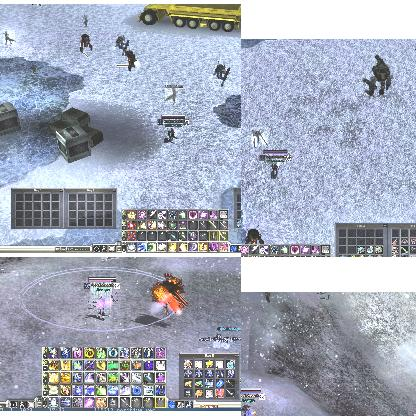caliana: (251, 127, 269, 147), (165, 86, 179, 104), (3, 30, 15, 44), (83, 14, 89, 26)
